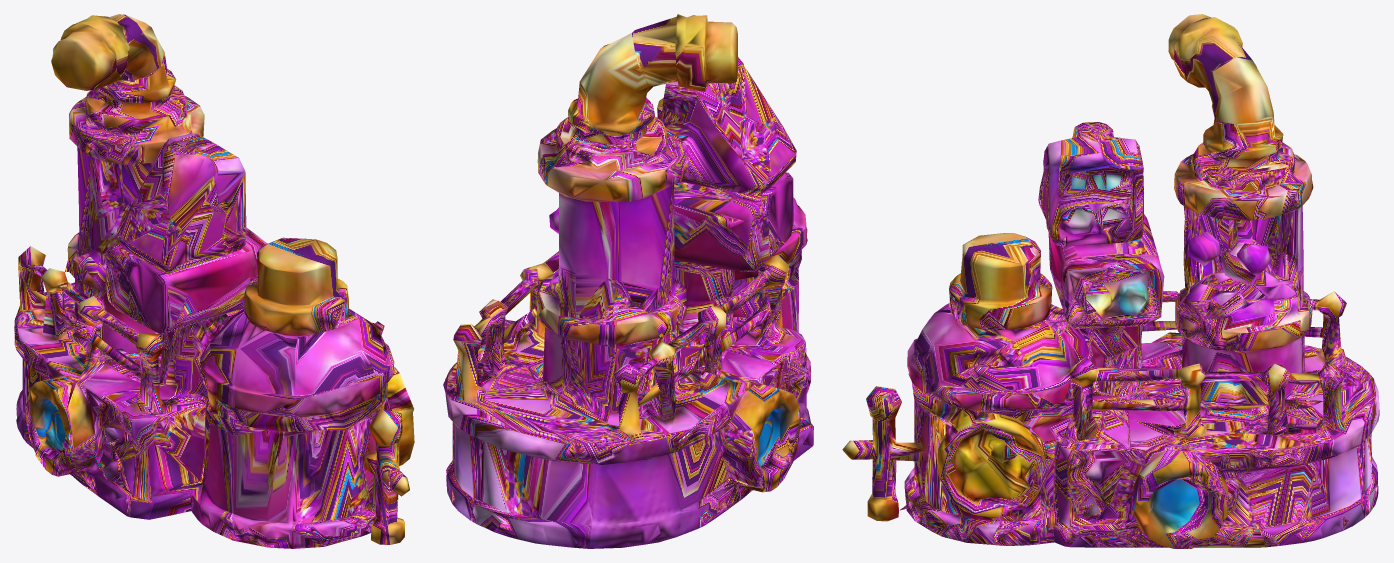
Rendered from Machinery_tiny_far.glb.
3 renders of one model, left to right at view 1: azimuth 30°, elevation 25°; view 2: azimuth 150°, elevation 25°; view 3: azimuth 270°, elevation 25°, orthographic. The views are drawn at different scales.
Size of the model in its own units: 0.5735 by 0.8728 by 0.9747.
Materials: 1 (1 with a texture image).
